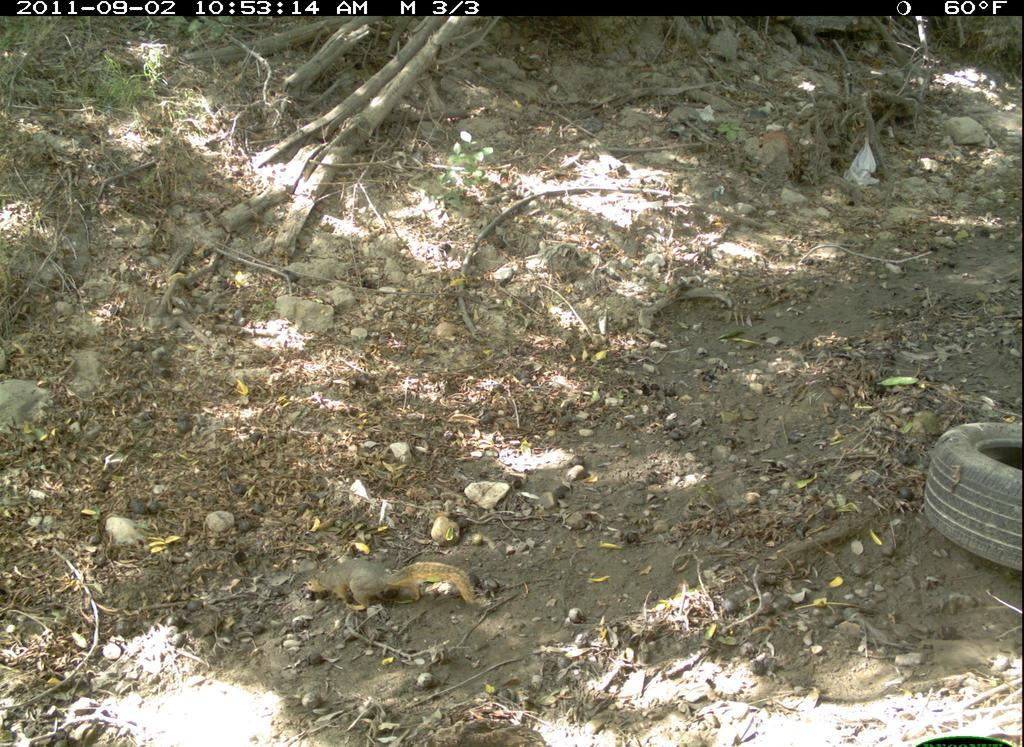squirrel: (295, 551, 484, 624)
